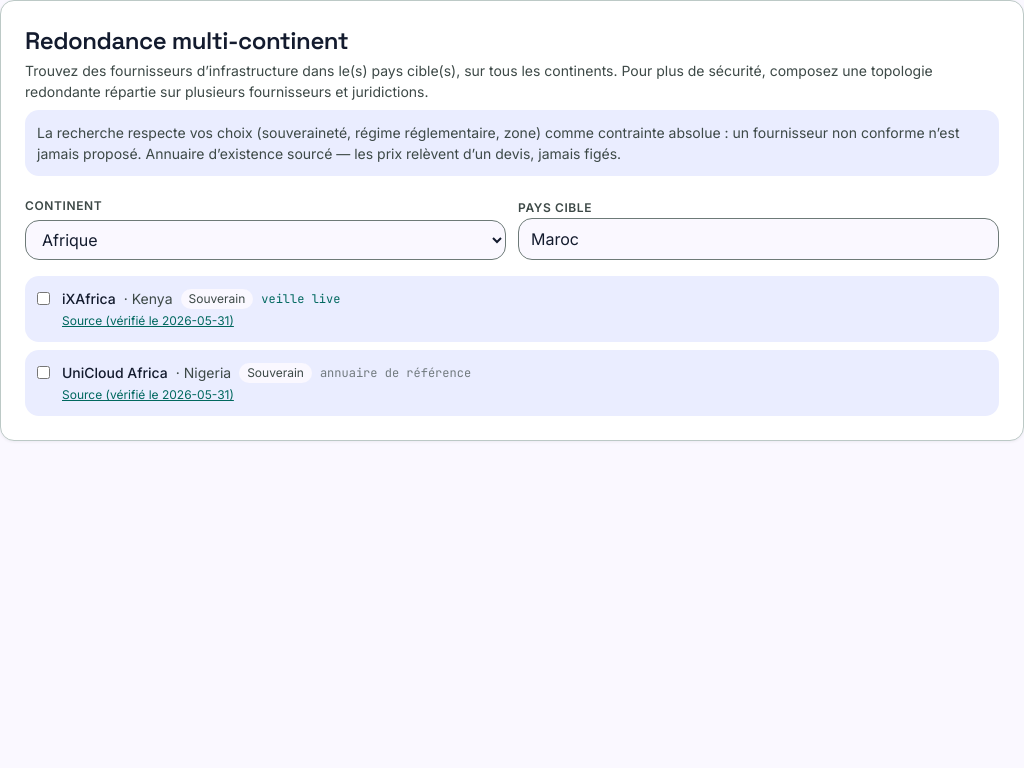
RedundancyPanel (S-073, recherche AUTO sans clic) › sélection de 2 fournisseurs (2 juridictions) → topologie redondante + caveats
Expected: the text "iXAfrica" is shown, [62, 288, 116, 309]
Click the 1st checkbox. click: (44, 299)
box: [37, 292, 50, 305]
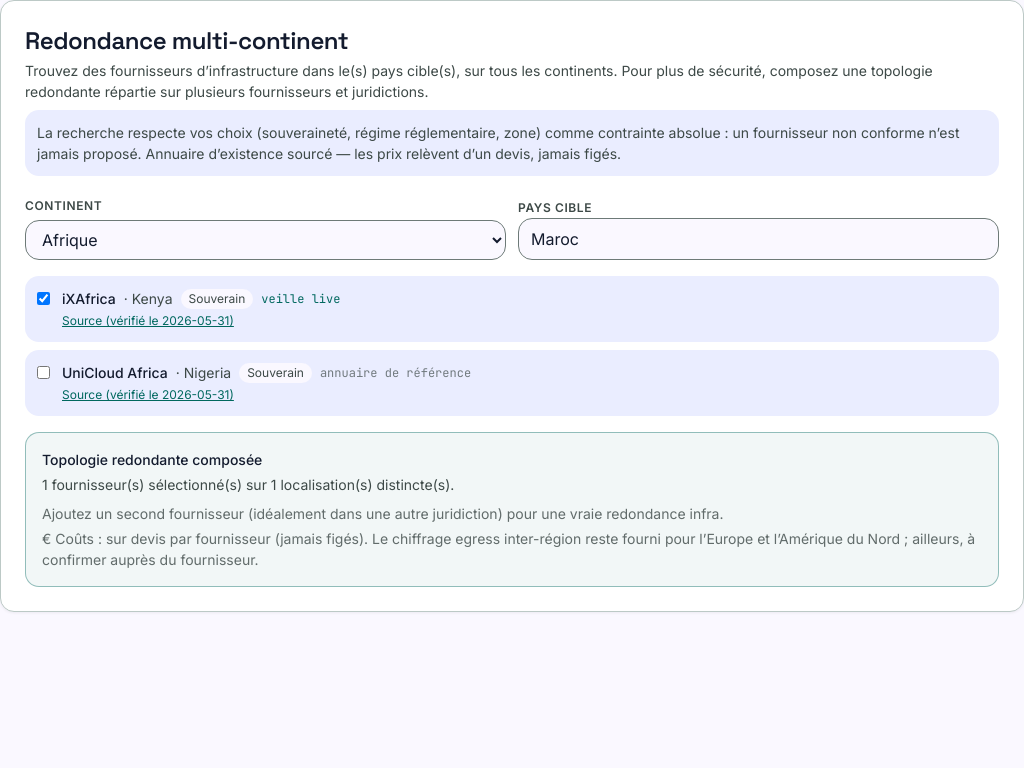
Click the 2nd checkbox. click: (44, 373)
box: [37, 366, 50, 379]
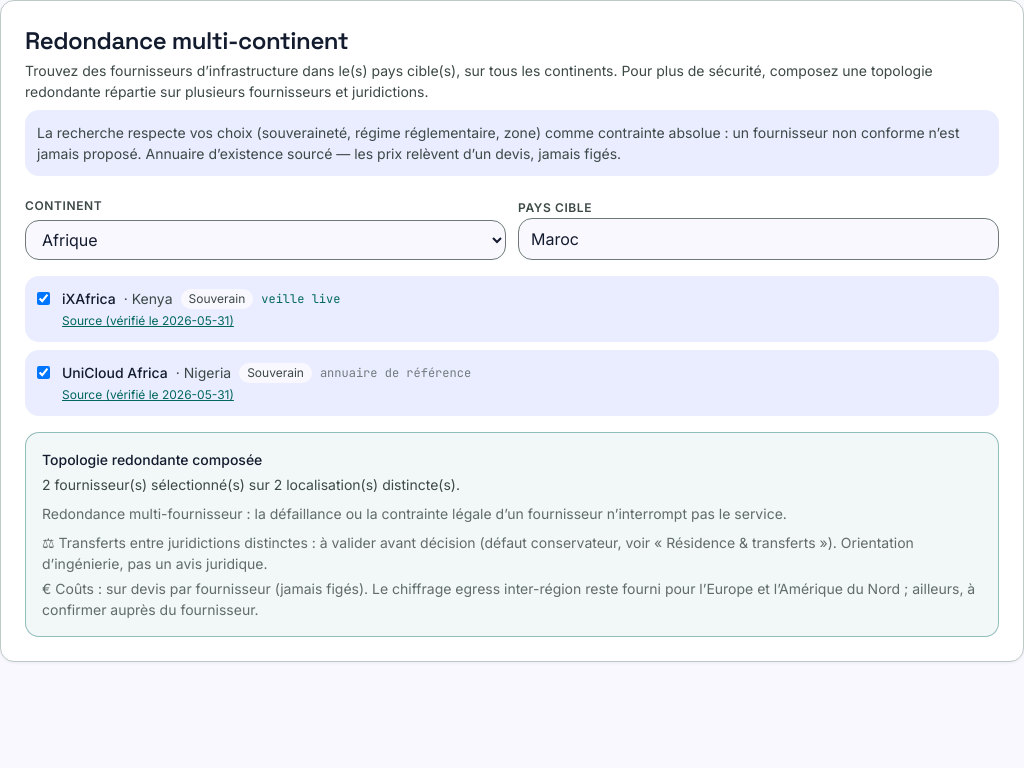
Now the text "sur devis par fournisseur" is shown, box [42, 580, 975, 618]
Now the text "Redondance multi-fournisseur" is shown, box [42, 505, 787, 522]
Now the text "à valider avant décision" is shown, box [42, 534, 914, 572]
